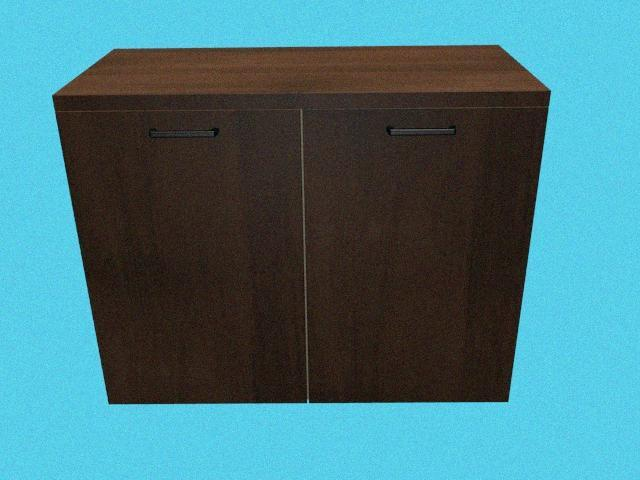cabinet_door: (305, 108, 528, 402), (82, 110, 305, 404)
handle: (384, 118, 463, 146), (142, 122, 225, 144)
